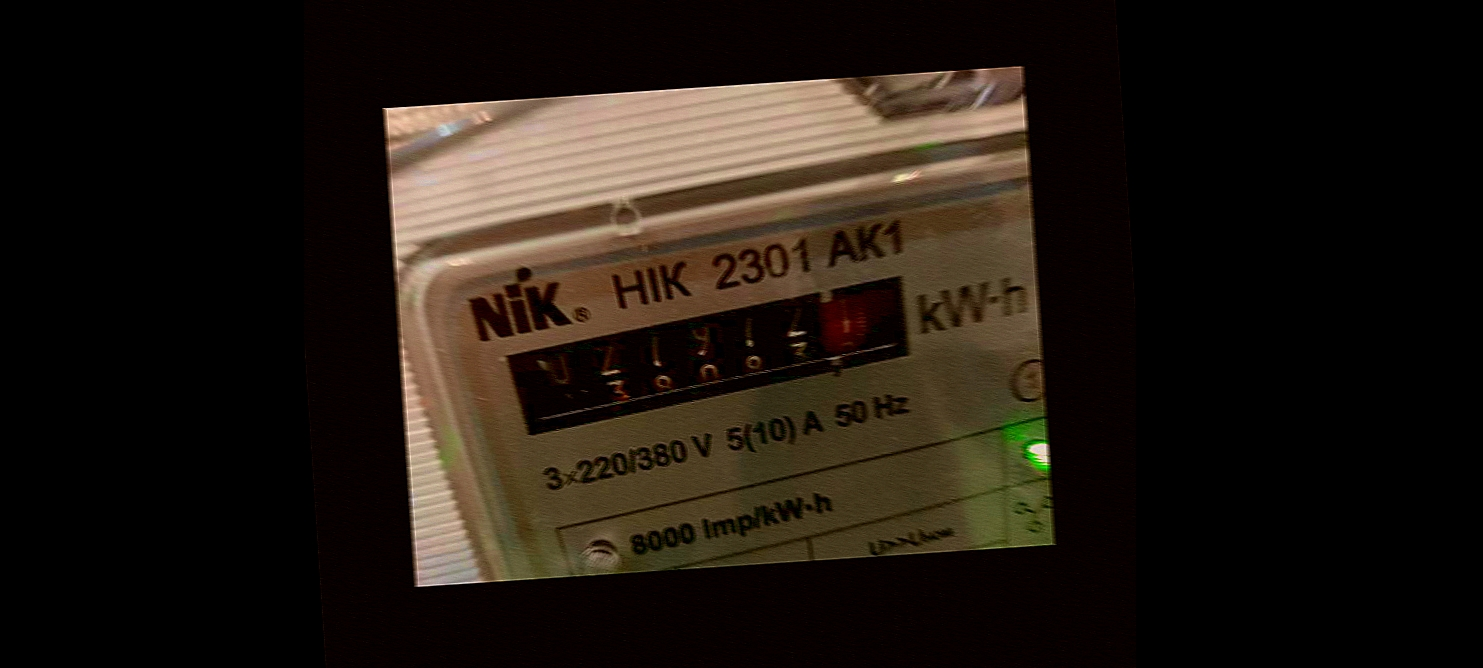0: (544, 348, 575, 386)
1: (834, 293, 859, 337)
2: (593, 336, 624, 377), (781, 300, 811, 338)
7: (734, 308, 763, 351), (642, 330, 668, 369)
9: (689, 320, 717, 357)
screen: (486, 263, 947, 447)
